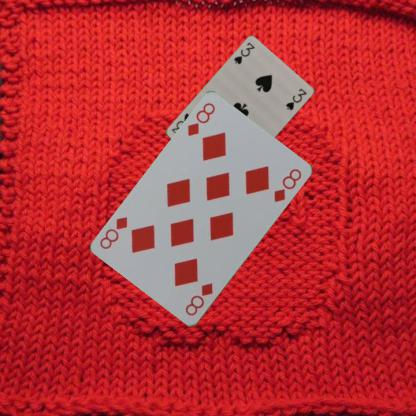3s: (231, 40, 256, 66)
8d: (184, 100, 217, 138), (183, 280, 214, 318)
